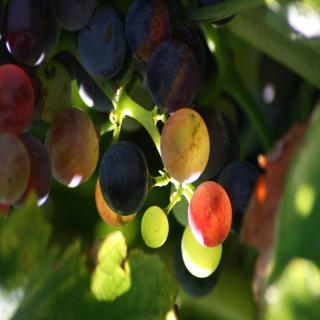Grape: (45, 104, 98, 187), (100, 139, 151, 217), (148, 36, 198, 115), (159, 106, 208, 183), (5, 0, 59, 67), (78, 5, 126, 80), (219, 160, 262, 235), (125, 0, 171, 67), (187, 182, 231, 248), (192, 109, 228, 181), (174, 246, 222, 298), (0, 62, 32, 135), (33, 61, 72, 120), (10, 64, 43, 131), (20, 135, 52, 204), (181, 225, 221, 278), (0, 133, 29, 206), (96, 181, 138, 229), (74, 66, 113, 112), (52, 0, 94, 30), (49, 50, 81, 86), (140, 206, 168, 247)
